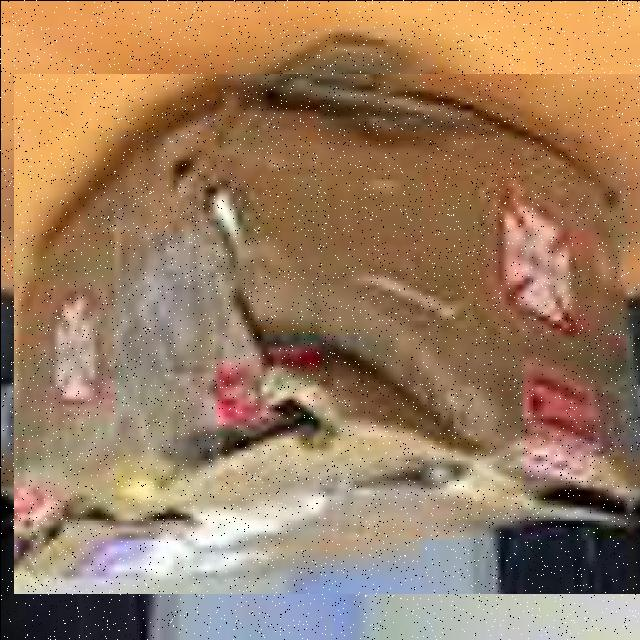defect: (12, 72, 638, 592)
